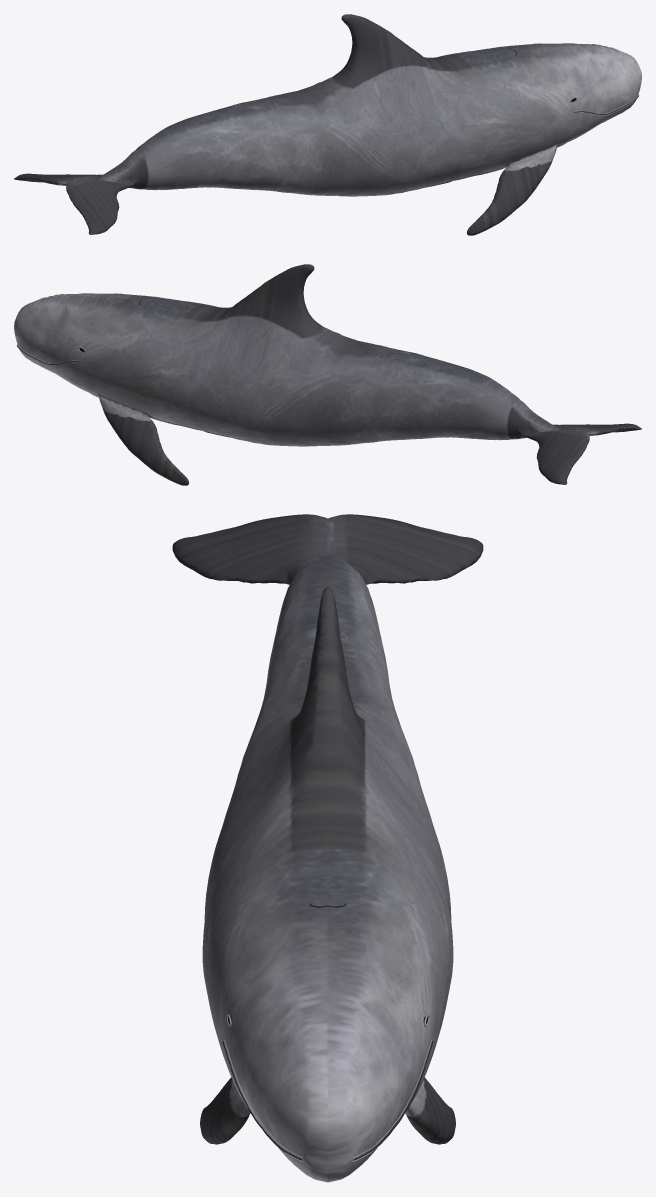
Rendered from model-cetacean-grampus-griseus-v0678.glb.
The picture shows the model from 3 angles, top to bottom: view 1: azimuth 30°, elevation 25°; view 2: azimuth 150°, elevation 25°; view 3: azimuth 270°, elevation 25°; orthographic projection. The views are drawn at different scales.
Parts seen in each view (by area): view 1: grampus-griseus licensed source body; view 2: grampus-griseus licensed source body; view 3: grampus-griseus licensed source body.
Part boxes in pixels (left/top/right/bottom): grampus-griseus licensed source body: left=14, top=14, right=641, bottom=235; grampus-griseus licensed source body: left=14, top=264, right=641, bottom=485; grampus-griseus licensed source body: left=172, top=514, right=483, bottom=1182.
Bounding box in the file's own units: 3.85 × 1.39 × 0.8796.
3 materials, 1 textured.
